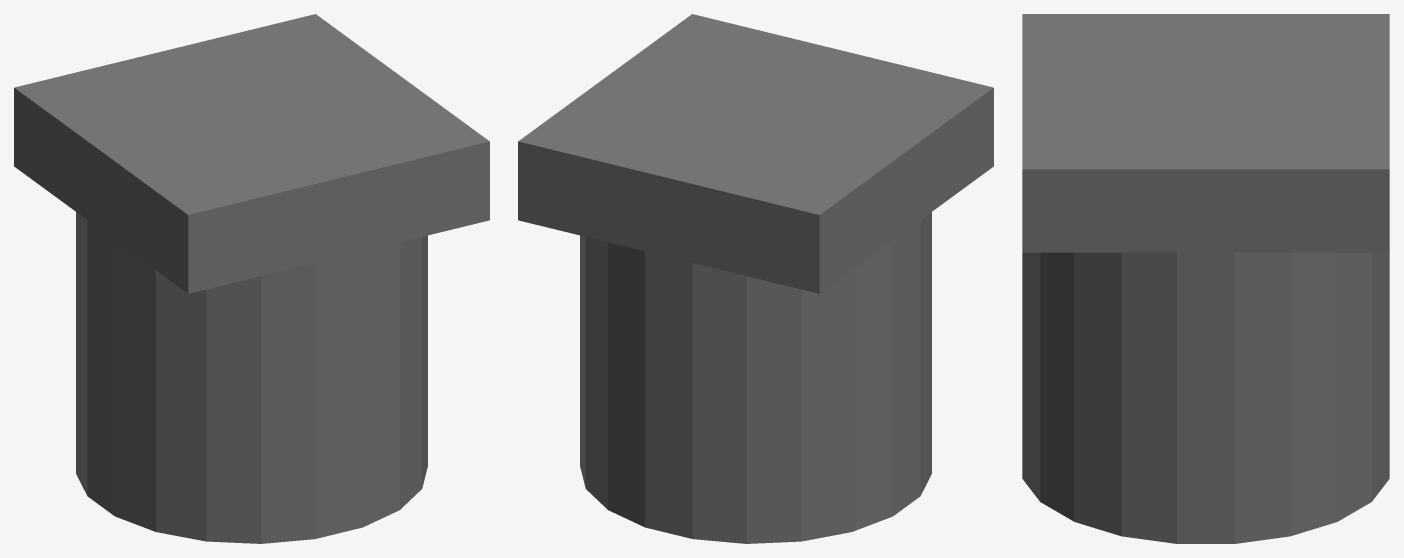
The model's file is dc_metro_roof_l1b.obj.
3 views of the same model, side by side, from view 1: azimuth 30°, elevation 25°; view 2: azimuth 150°, elevation 25°; view 3: azimuth 270°, elevation 25° (orthographic). The views are drawn at different scales.
Visible parts, largest first — view 1: part1b; view 2: part1b; view 3: part1b.
Part boxes in pixels (x1,y1,x2,y2): part1b: (14,14,489,543); part1b: (518,14,993,543); part1b: (1022,14,1389,543).
Size of the model in its own units: 1 by 1.12 by 1.
Materials: 2 (2 with a texture image).
